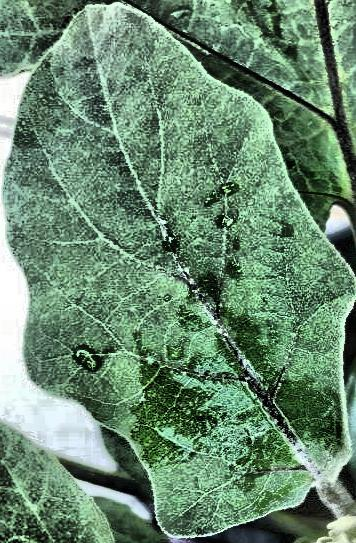HEALTHY: (0, 1, 356, 543)
